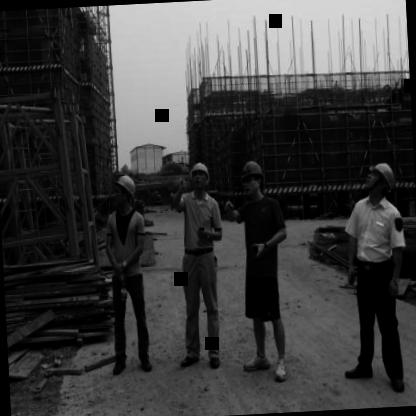helmet: (364, 159, 397, 197), (237, 161, 264, 196), (110, 173, 135, 210), (190, 160, 210, 190)
